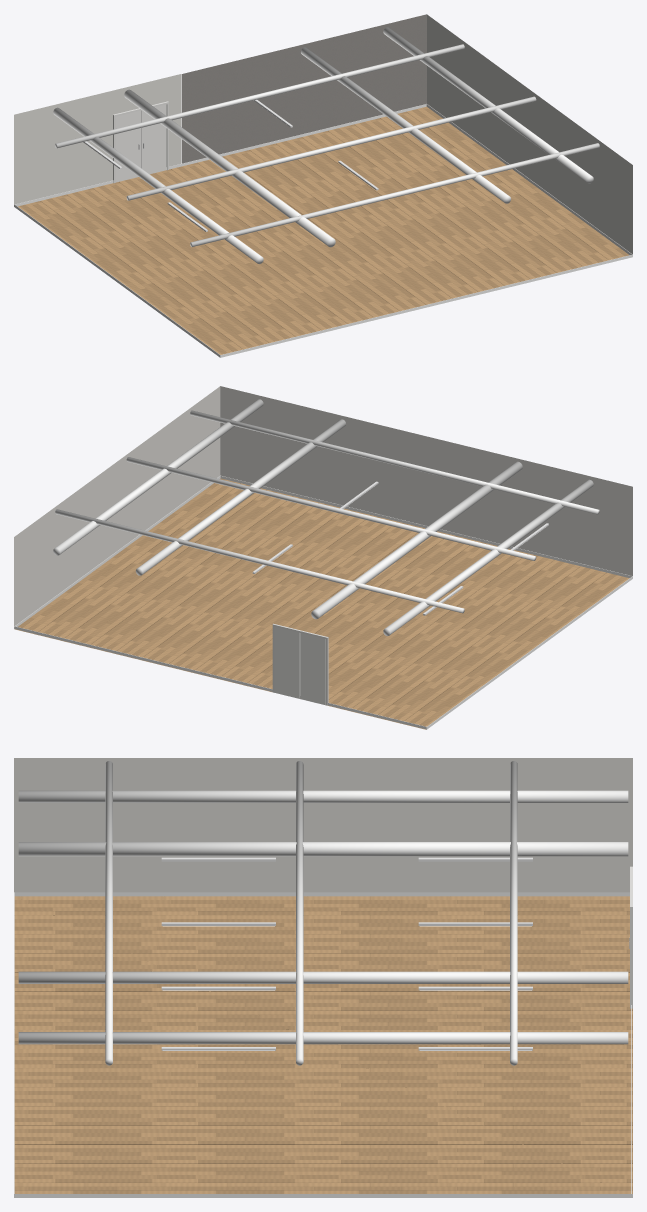
Rendered from room_shell.glb.
The picture shows the model from 3 angles, top to bottom: view 1: azimuth 30°, elevation 25°; view 2: azimuth 150°, elevation 25°; view 3: azimuth 270°, elevation 25°; orthographic projection. The views are drawn at different scales.
Visible parts, largest first — view 1: floor, walls_white, feature_wall, ceiling_ducts, baseboards, doors, led_housings; view 2: floor, walls_white, ceiling_ducts, baseboards, doors, led_housings, door_frame; view 3: floor, walls_white, ceiling_ducts, baseboards, led_housings, led_strips.
Boxes of the visible parts, x1,y1,x2,y2 form: floor: (18,106,629,354); walls_white: (14,14,632,254); feature_wall: (182,14,426,163); ceiling_ducts: (53,27,599,264); baseboards: (14,104,632,357); doors: (115,104,166,182); led_housings: (83,99,378,231); floor: (15,478,629,729); walls_white: (14,386,632,626); ceiling_ducts: (53,399,599,636); baseboards: (14,475,632,729); doors: (274,626,325,705); led_housings: (252,481,548,615); door_frame: (272,623,328,705); floor: (14,896,632,1193); walls_white: (14,758,632,892); ceiling_ducts: (18,761,628,1065); baseboards: (14,892,632,1197); led_housings: (161,857,532,1050); led_strips: (163,926,531,1050).
Size of the model in its own units: 15 by 3.2 by 13.
Materials: 11 (4 with a texture image).
